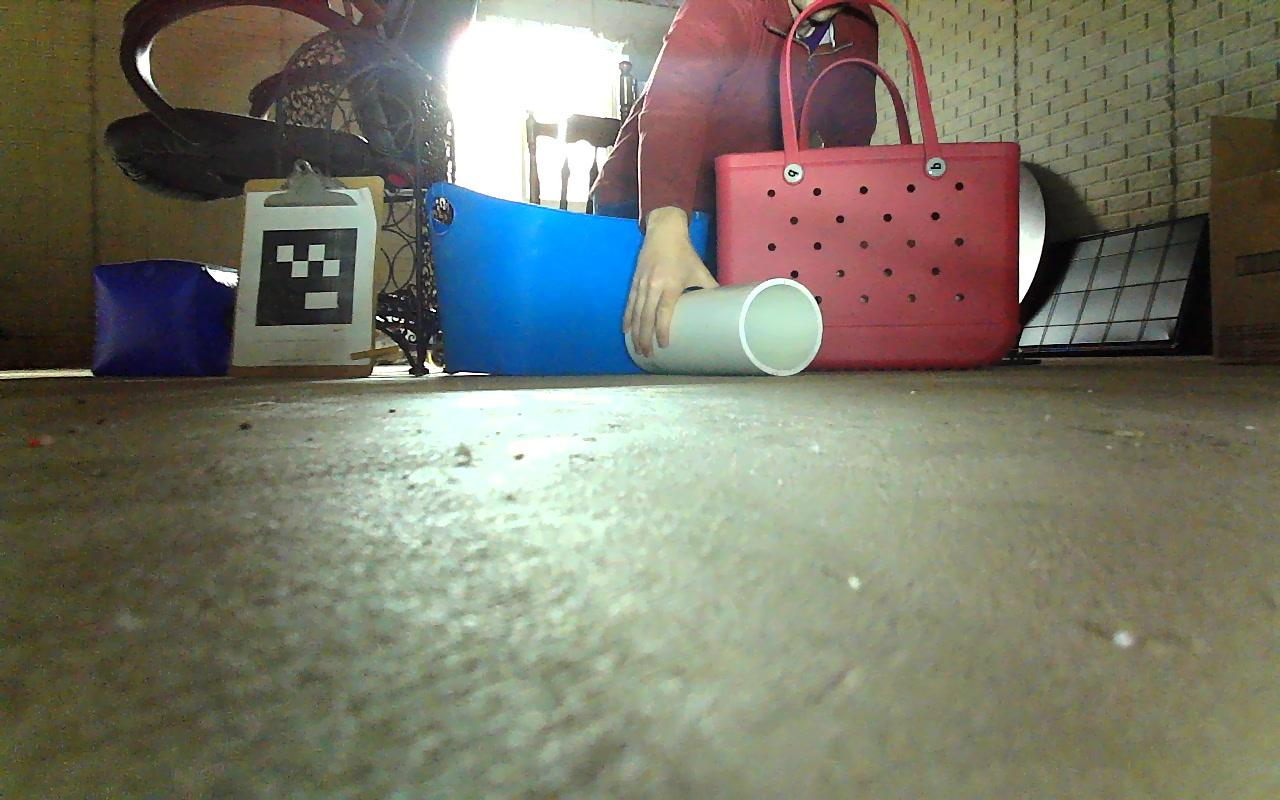coral: (627, 278, 822, 375)
